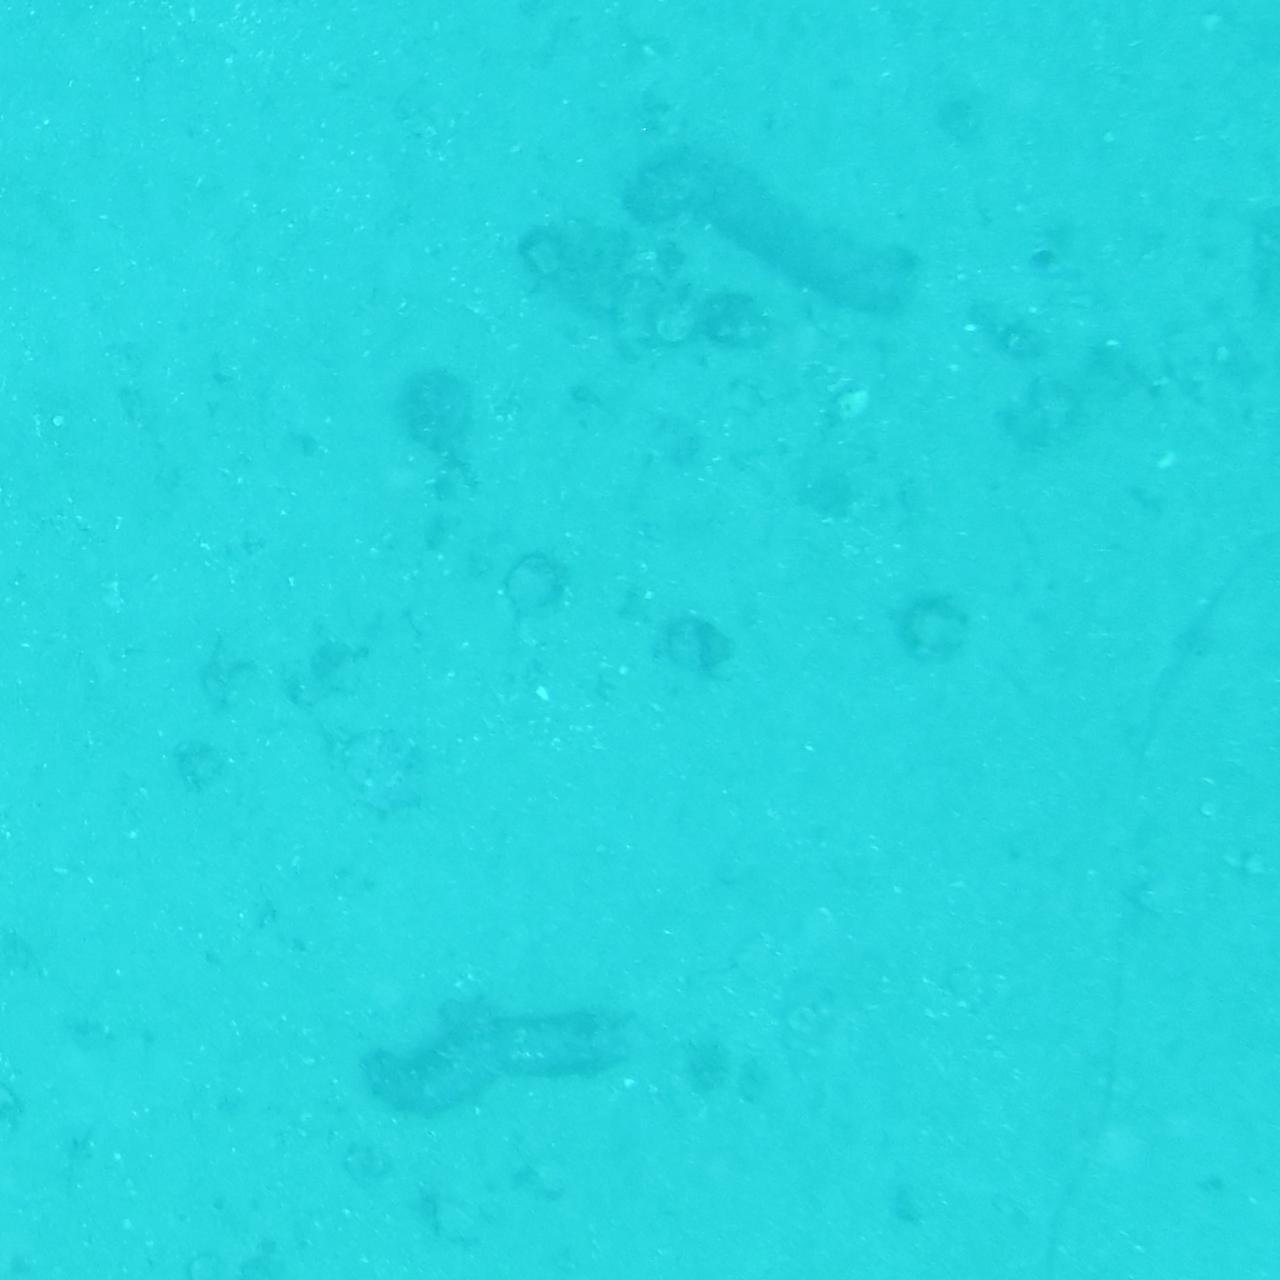Holothuria tubulosa: (628, 127, 935, 327), (358, 983, 640, 1124)
